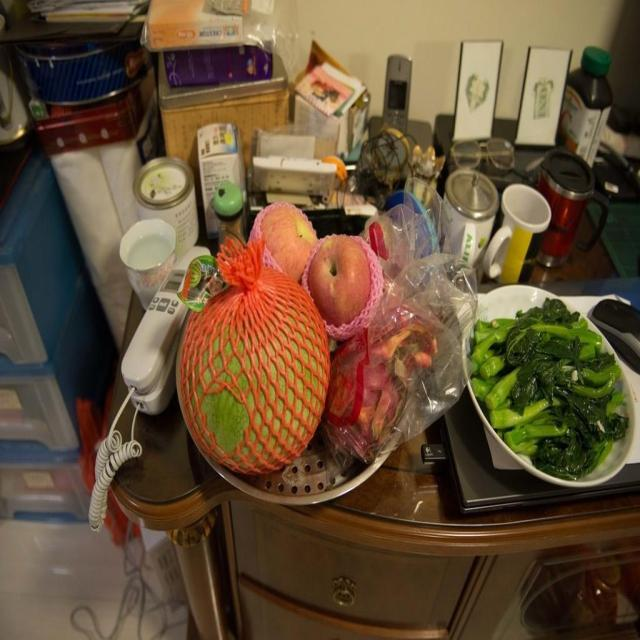Phone: (89, 244, 215, 530), (381, 53, 413, 139)
